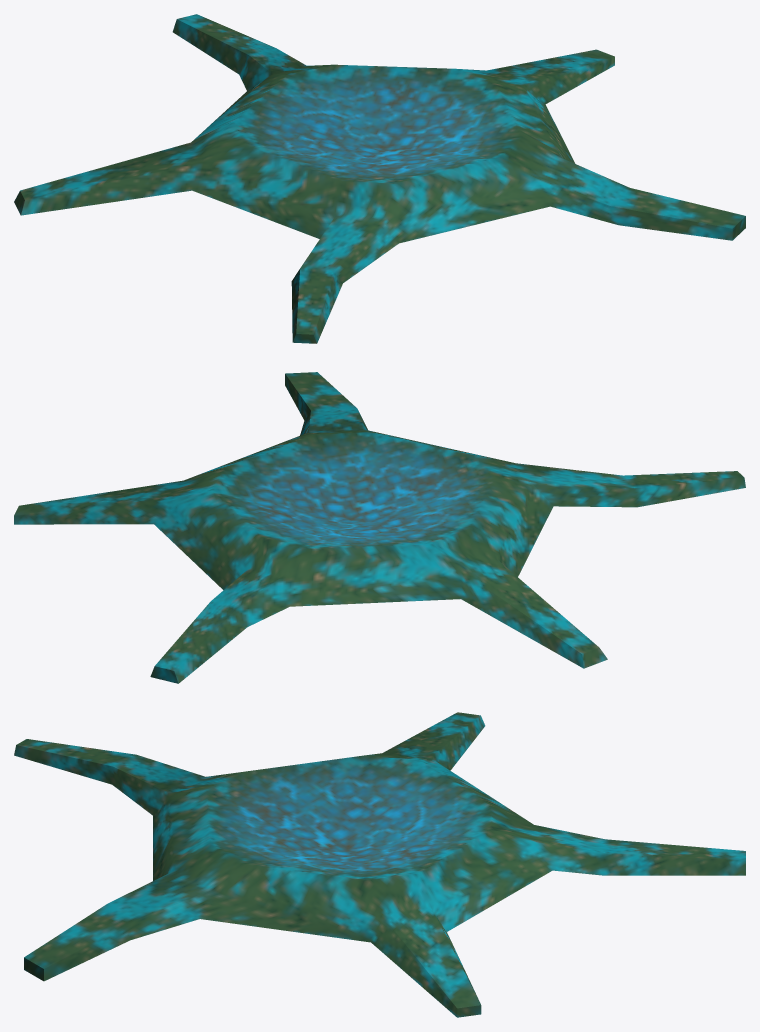
Rendered from AlienStarfish_SM.fbx.
3 views of the same model, one above another, from view 1: azimuth 30°, elevation 25°; view 2: azimuth 150°, elevation 25°; view 3: azimuth 270°, elevation 25° (orthographic). The views are drawn at different scales.
Visible parts, largest first — view 1: AlienStarfish_SM; view 2: AlienStarfish_SM; view 3: AlienStarfish_SM.
Boxes of the visible parts, <box> form: AlienStarfish_SM: <box>14,14,745,343</box>; AlienStarfish_SM: <box>14,372,745,683</box>; AlienStarfish_SM: <box>14,712,745,1017</box>.
Bounding box in the file's own units: 70.36 × 6.44 × 72.66.
Materials: 1 (1 with a texture image).
